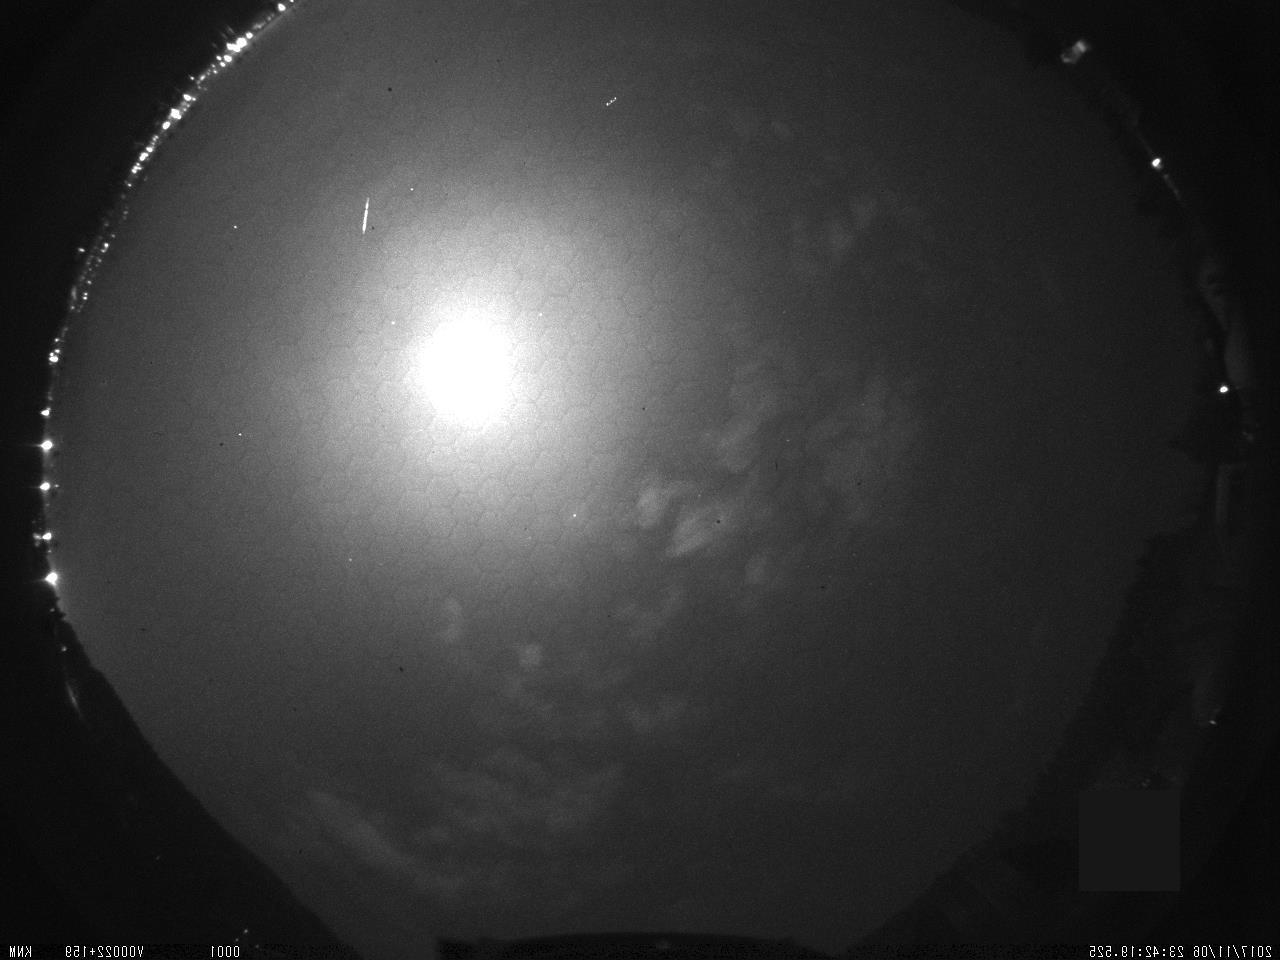meteor: (348, 184, 388, 247)
